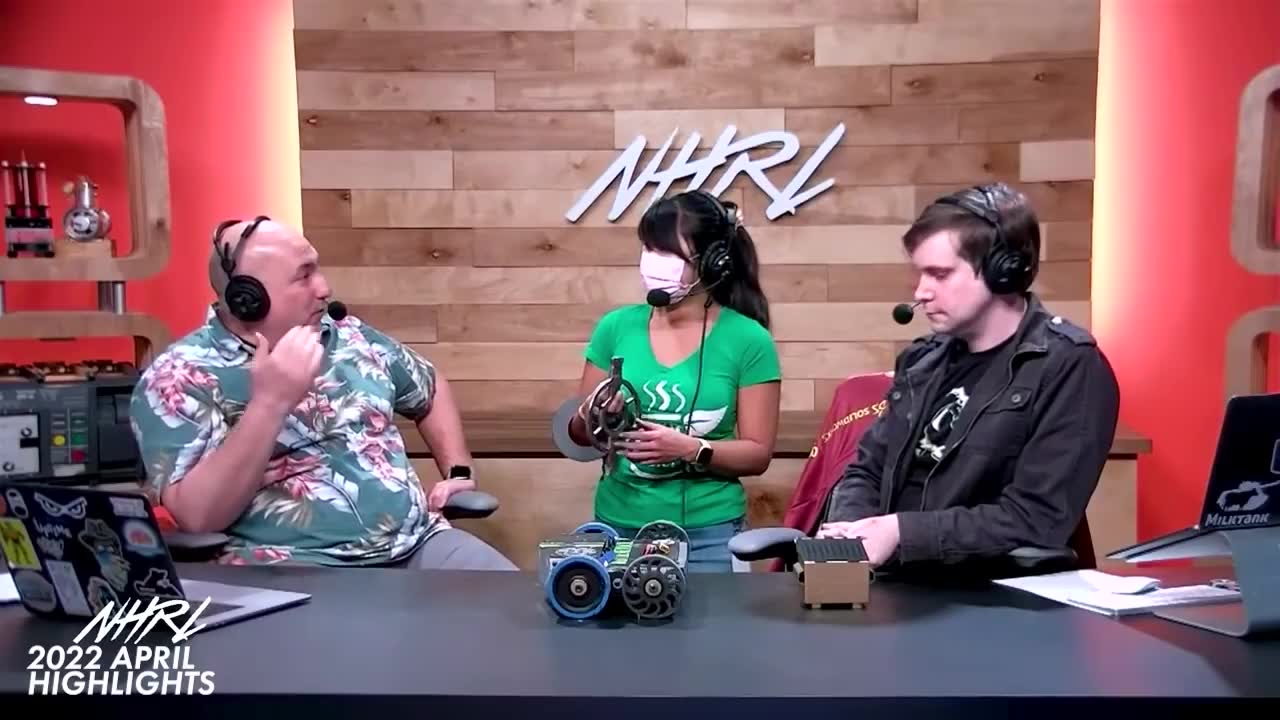combatbot: (538, 522, 689, 624)
